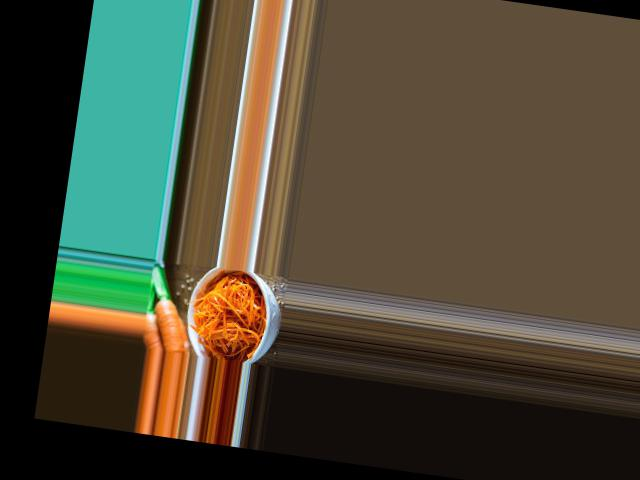carrot: (151, 295, 189, 352)
